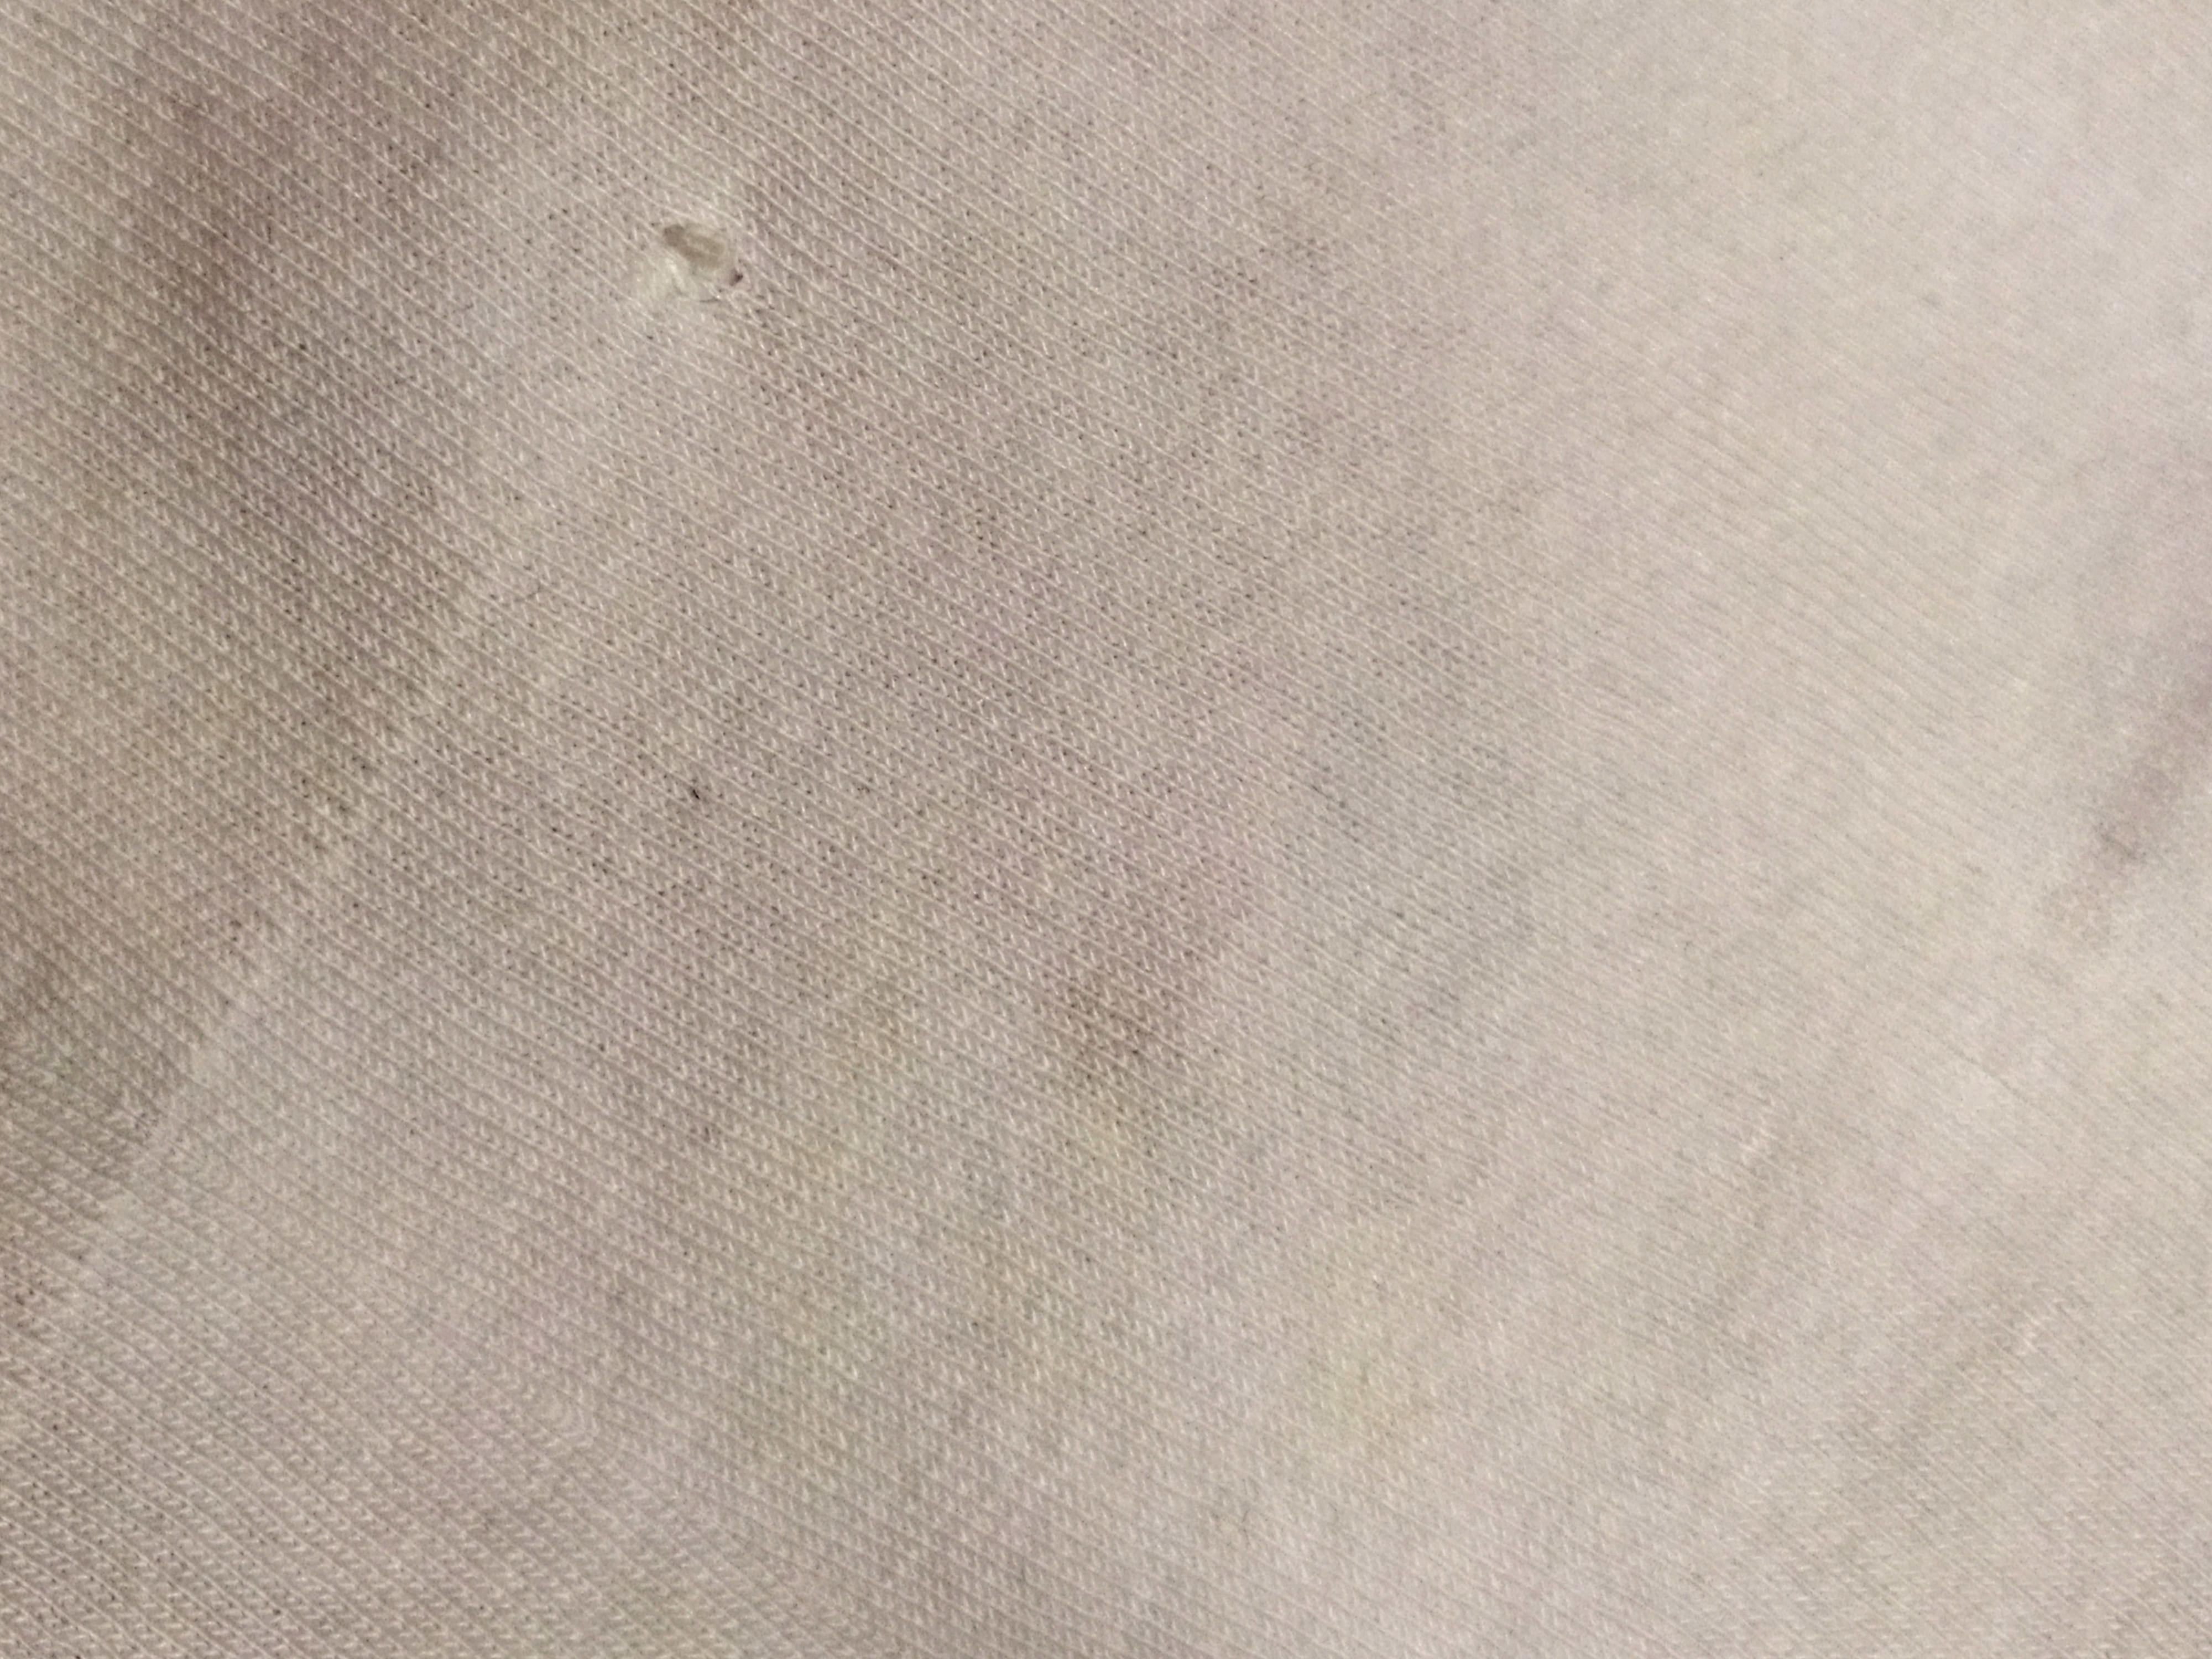knot: (610, 174, 780, 335)
